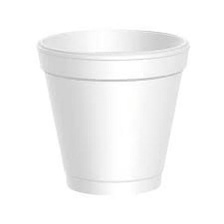paper_cup: (30, 24, 193, 200)
